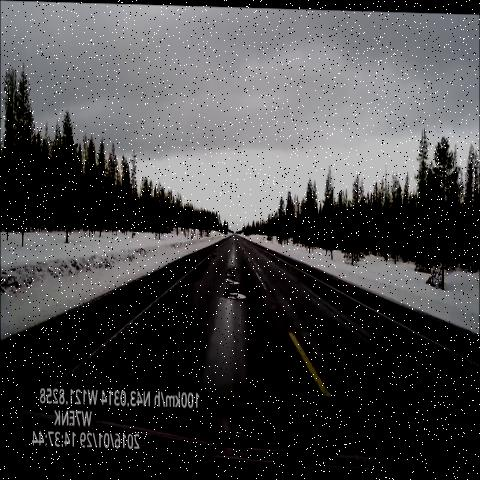pothole: (221, 254, 252, 308)
